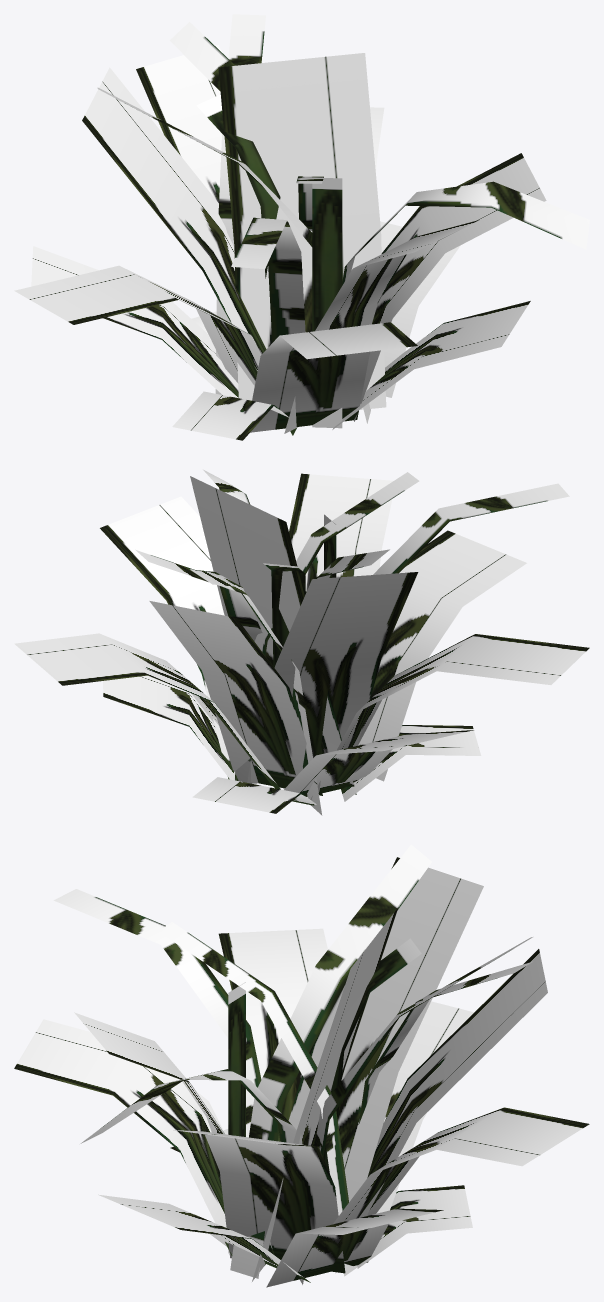
The model's file is Cao1.FBX.
The picture shows the model from 3 angles, top to bottom: view 1: azimuth 30°, elevation 25°; view 2: azimuth 150°, elevation 25°; view 3: azimuth 270°, elevation 25°; orthographic projection. The views are drawn at different scales.
Parts seen in each view (by area): view 1: cao; view 2: cao; view 3: cao.
Part boxes in pixels (x1,y1,x2,y2): cao: [14, 14, 589, 440]; cao: [14, 469, 589, 815]; cao: [14, 844, 589, 1287].
Bounding box in the file's own units: 2.51 × 1.58 × 2.45.
